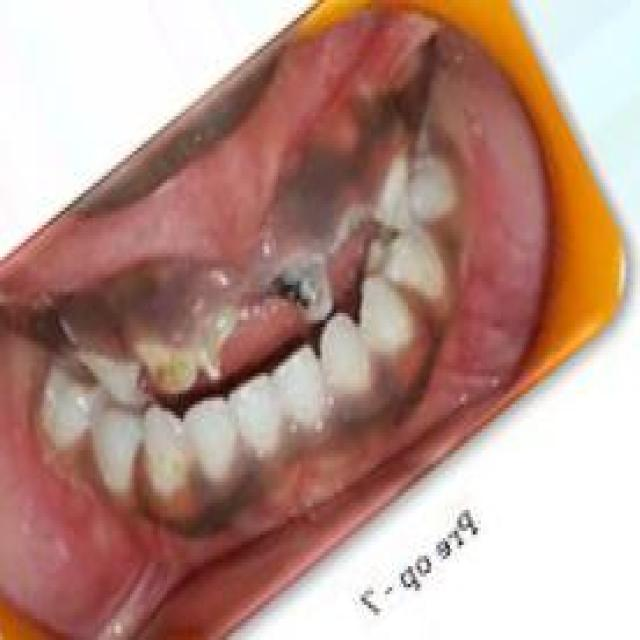caries: (105, 257, 235, 393), (263, 221, 336, 325), (32, 302, 126, 380), (330, 182, 386, 285)
